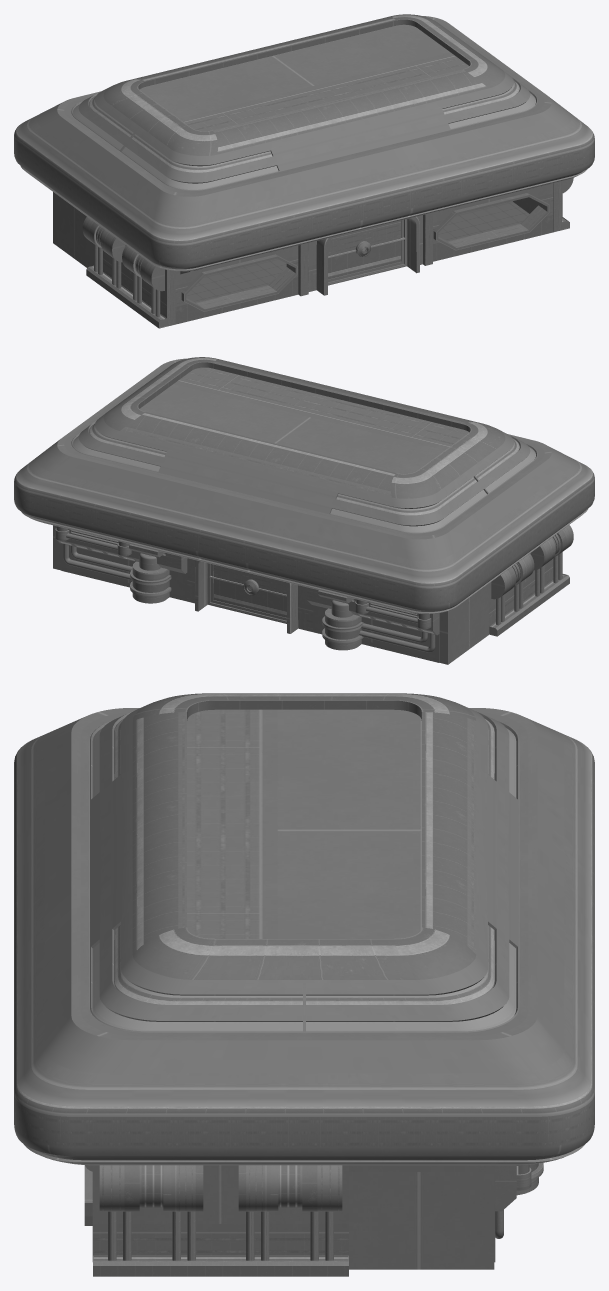
Rendered from SM_house_01.glb.
3 renders of one model, top to bottom at view 1: azimuth 30°, elevation 25°; view 2: azimuth 150°, elevation 25°; view 3: azimuth 270°, elevation 25°, orthographic. The views are drawn at different scales.
Parts seen in each view (by area): view 1: SM_house_01; view 2: SM_house_01; view 3: SM_house_01.
Boxes of the visible parts, x1,y1,x2,y2 form: SM_house_01: [14, 14, 594, 328]; SM_house_01: [14, 357, 594, 664]; SM_house_01: [14, 693, 594, 1276].
Bounding box in the file's own units: 27.95 × 9.66 × 18.15.
Materials: 3 (2 with a texture image).
